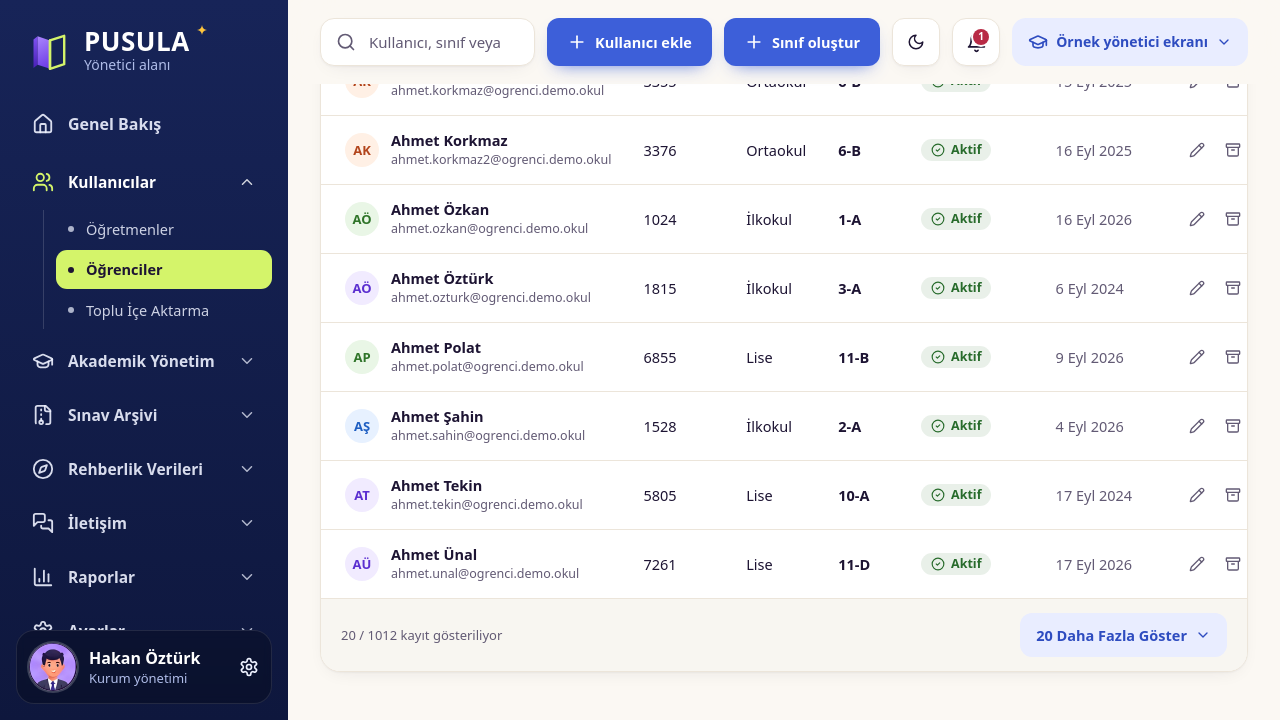
Test case: students table (admin) › loads 20 rows, then 20 more, and resets on search
(page scrolled)
Expected: the text "20 / 1012 kayıt gösteriliyor" is shown, [341,625,502,645]
Step 1. Click the button "20 Daha Fazla Göster" → (1124, 635), box [1020,613,1227,657]
(page scrolled)
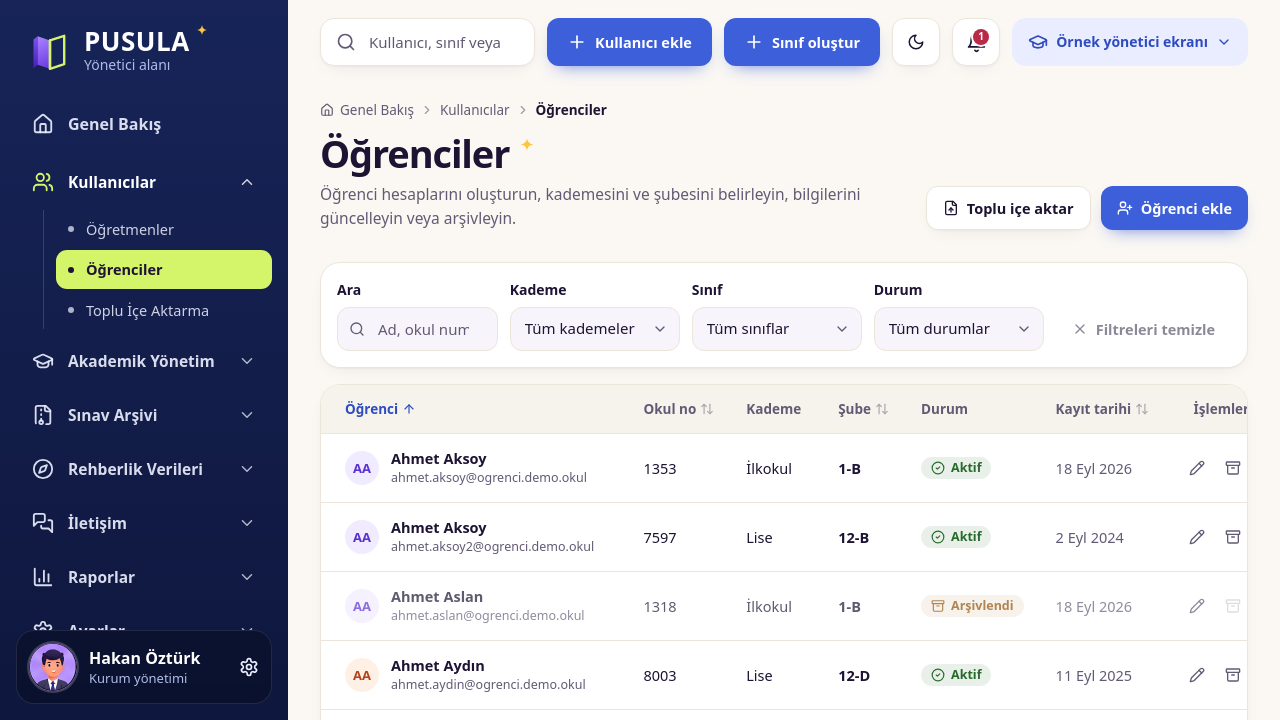
Step 2. Type "zzzz-nobody" into the search field labelled "Ara" → (417, 329), box [337,307,498,351]
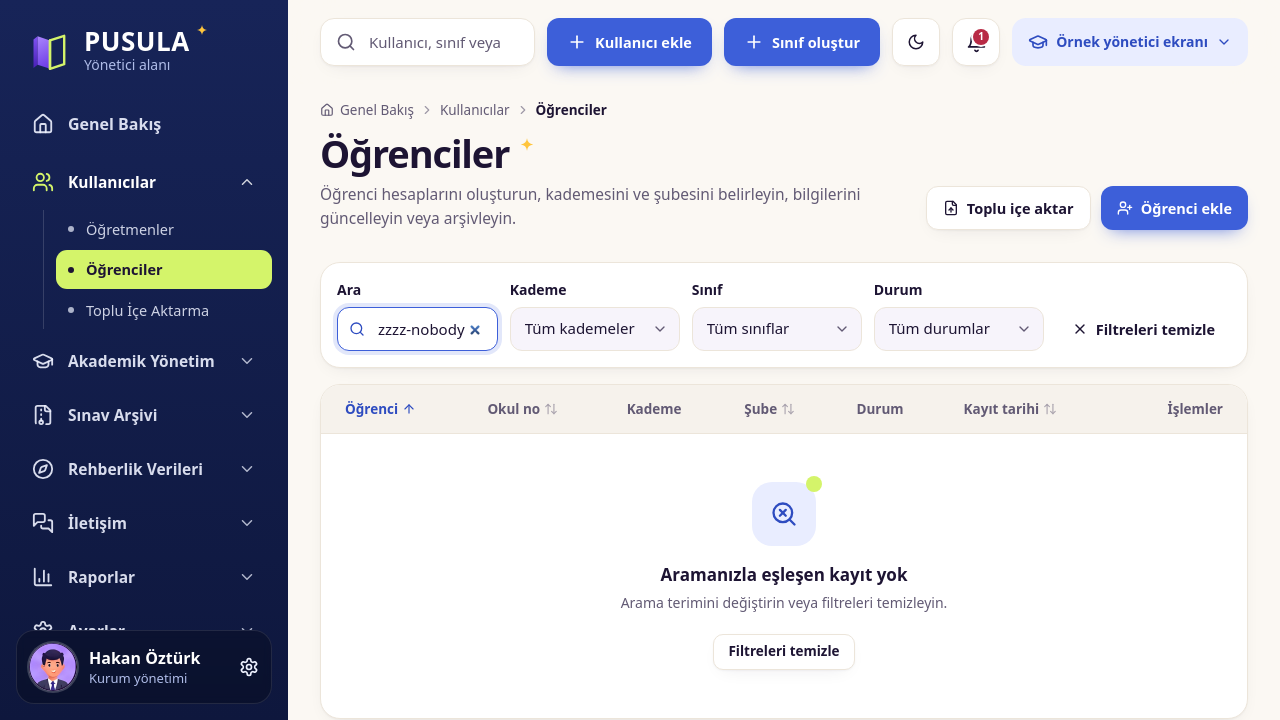
Now the text "Aramanızla eşleşen kayıt yok" is shown, box [661,562,908,588]
